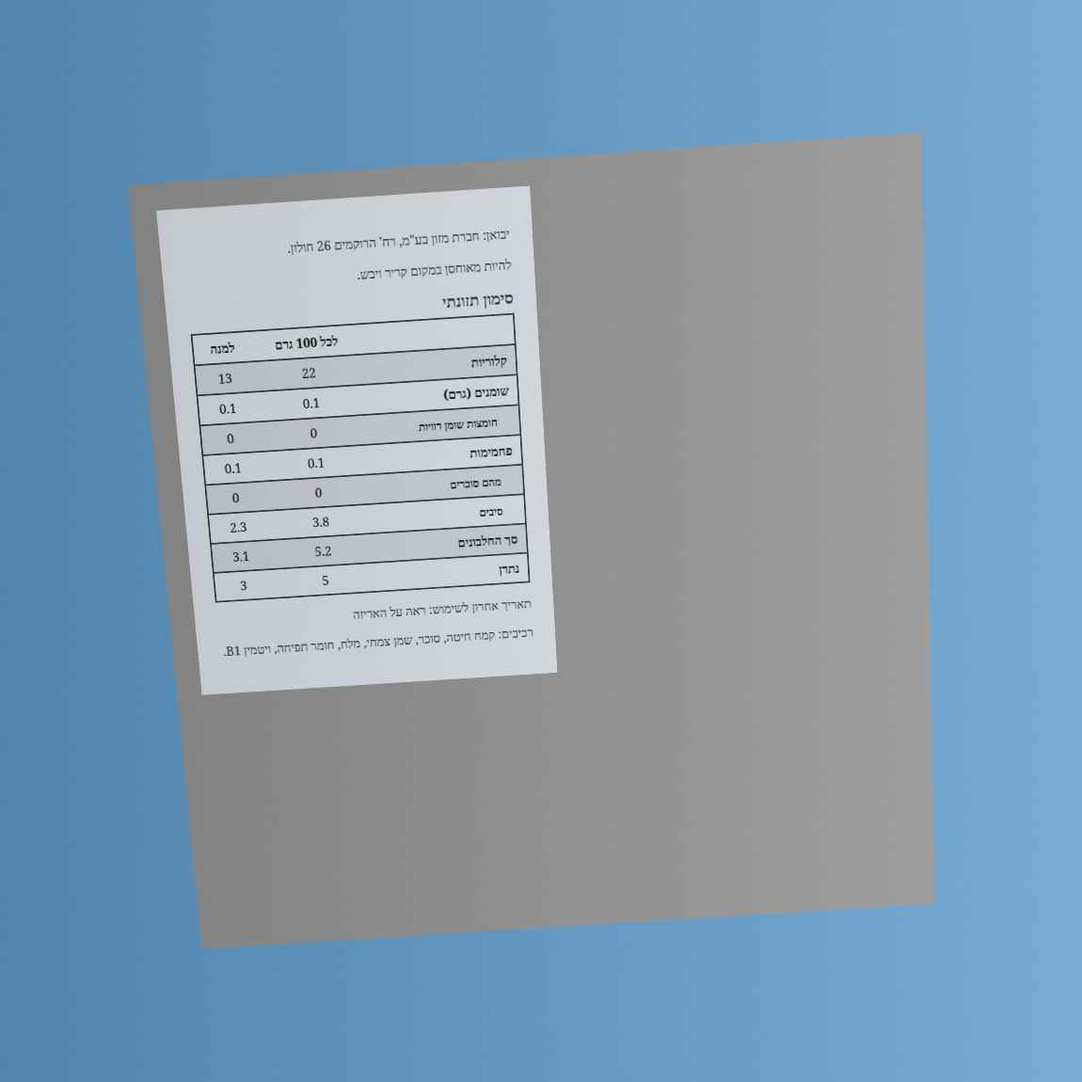carbs: (305, 452, 327, 474)
energy: (299, 362, 319, 384)
fat: (300, 392, 323, 415)
protein: (312, 540, 334, 562)
